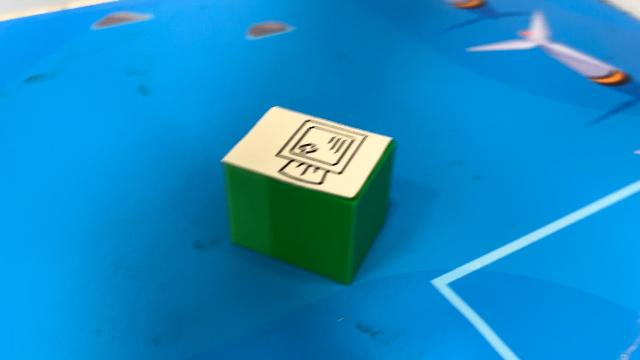napkin: (218, 102, 398, 286)
